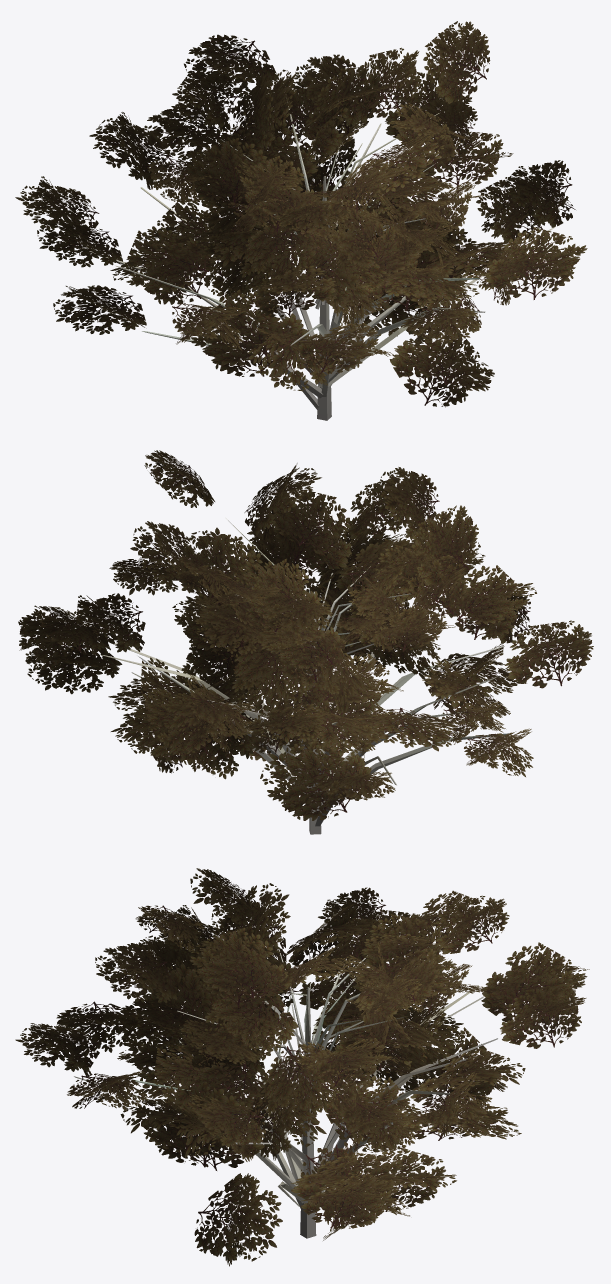
File: NX-E-Bishan-Shu04.FBX
3 renders of one model, top to bottom at view 1: azimuth 30°, elevation 25°; view 2: azimuth 150°, elevation 25°; view 3: azimuth 270°, elevation 25°, orthographic. The views are drawn at different scales.
Parts seen in each view (by area): view 1: NX-E-Bishan-Shu04; view 2: NX-E-Bishan-Shu04; view 3: NX-E-Bishan-Shu04.
Boxes of the visible parts, bbox=[...] form: NX-E-Bishan-Shu04: bbox=[15, 21, 587, 420]; NX-E-Bishan-Shu04: bbox=[18, 450, 593, 834]; NX-E-Bishan-Shu04: bbox=[15, 868, 589, 1266].
Bounding box in the file's own units: 34.15 × 22.6 × 32.87.
